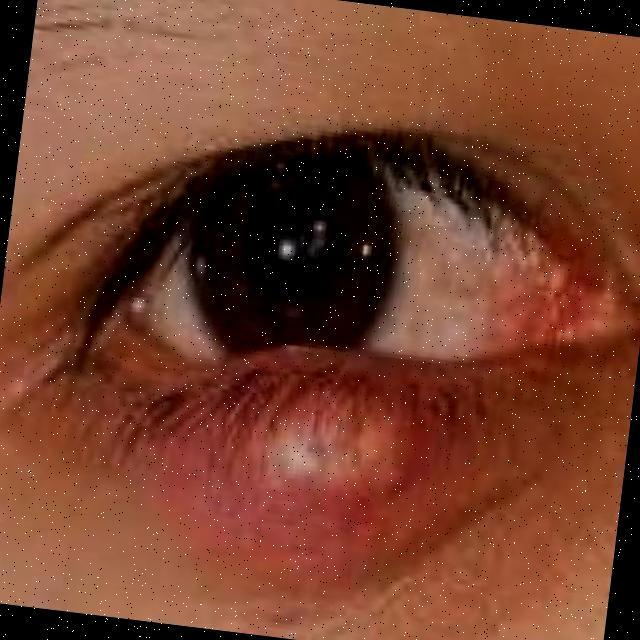Stye: (92, 304, 518, 601)
